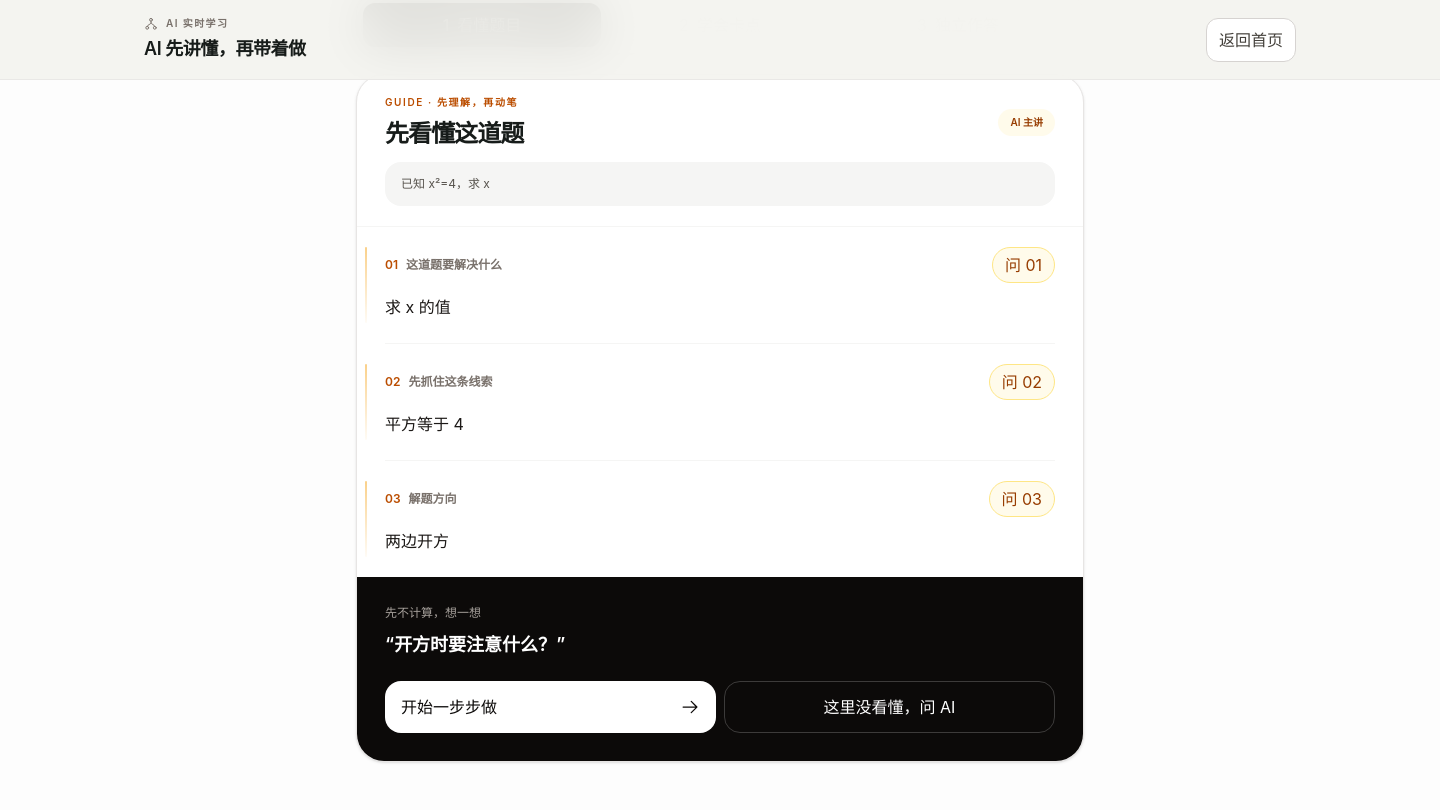
it: 学习工作区 › 可直接查看原题答案；关闭后不改变学习进度
(page scrolled)
Click the button "开始一步步做". click: coordinates (449, 707)
box: [385,681,716,733]
(page scrolled)
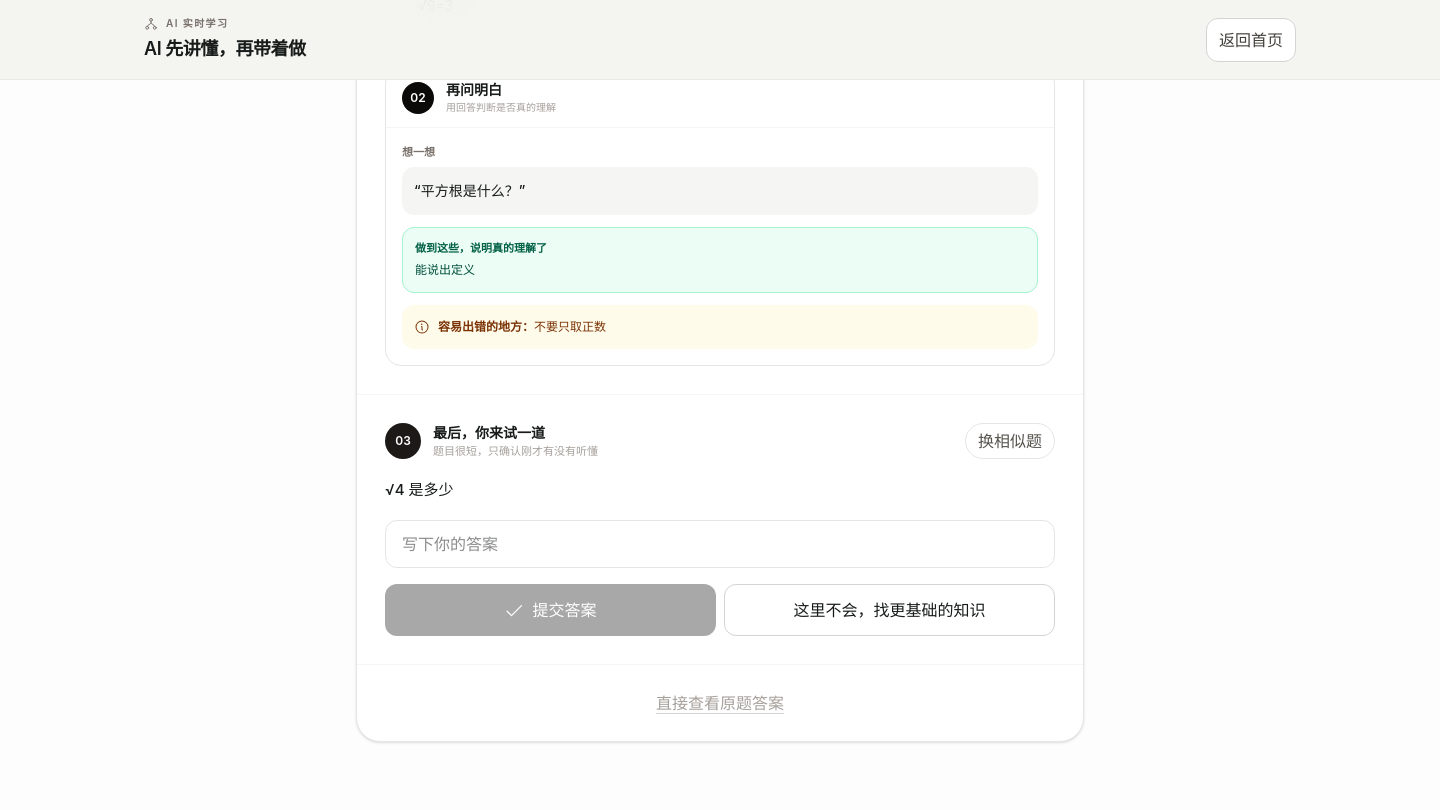
Click the button "直接查看原题答案". click: coordinates (720, 702)
box: [656,680,784,724]
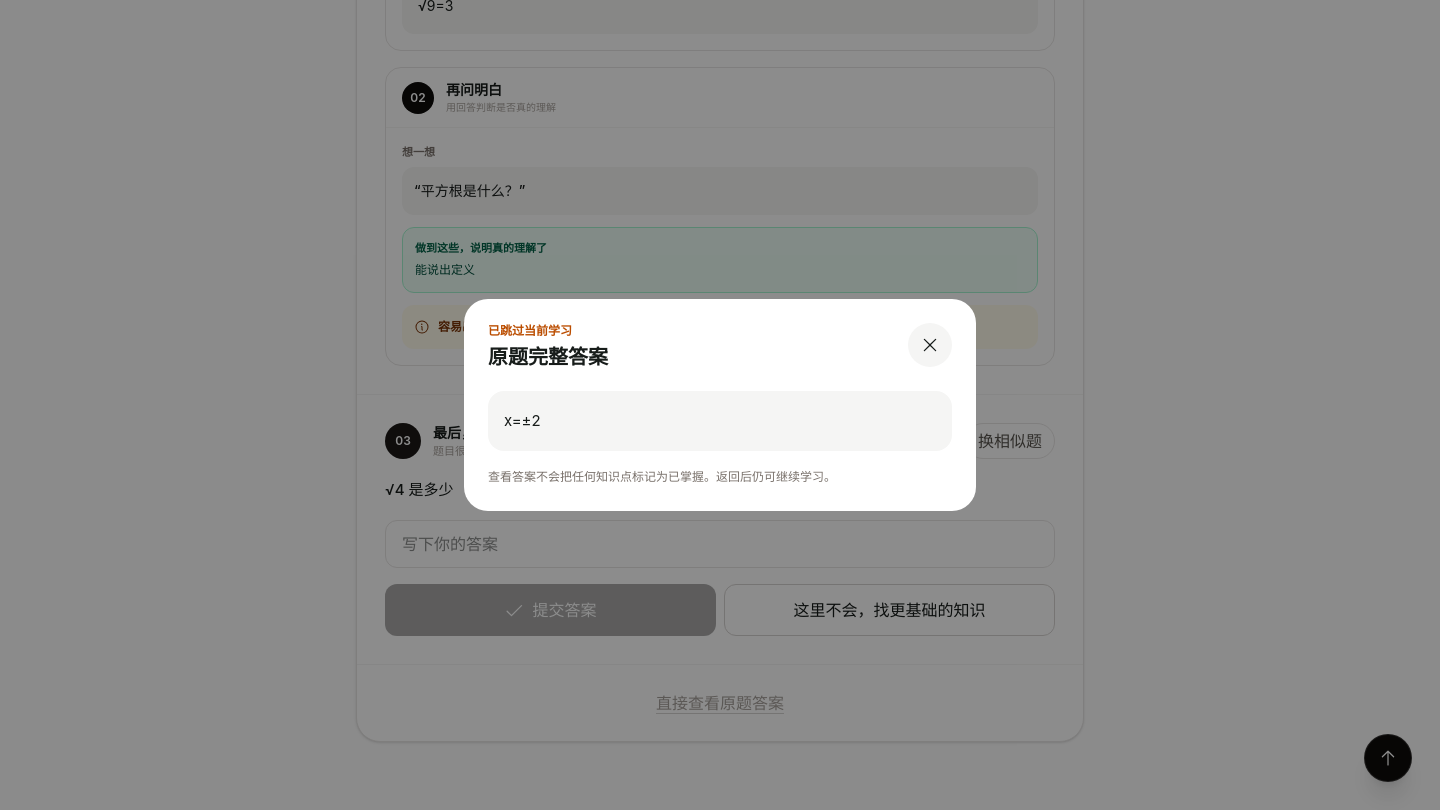
Check: the heading "原题完整答案" is shown, box [488,343,608,371]
Check: the text "x=±2" is shown, box [488,391,952,451]
Click the button named "关闭答案". click: coordinates (930, 345)
box: [908,323,952,367]
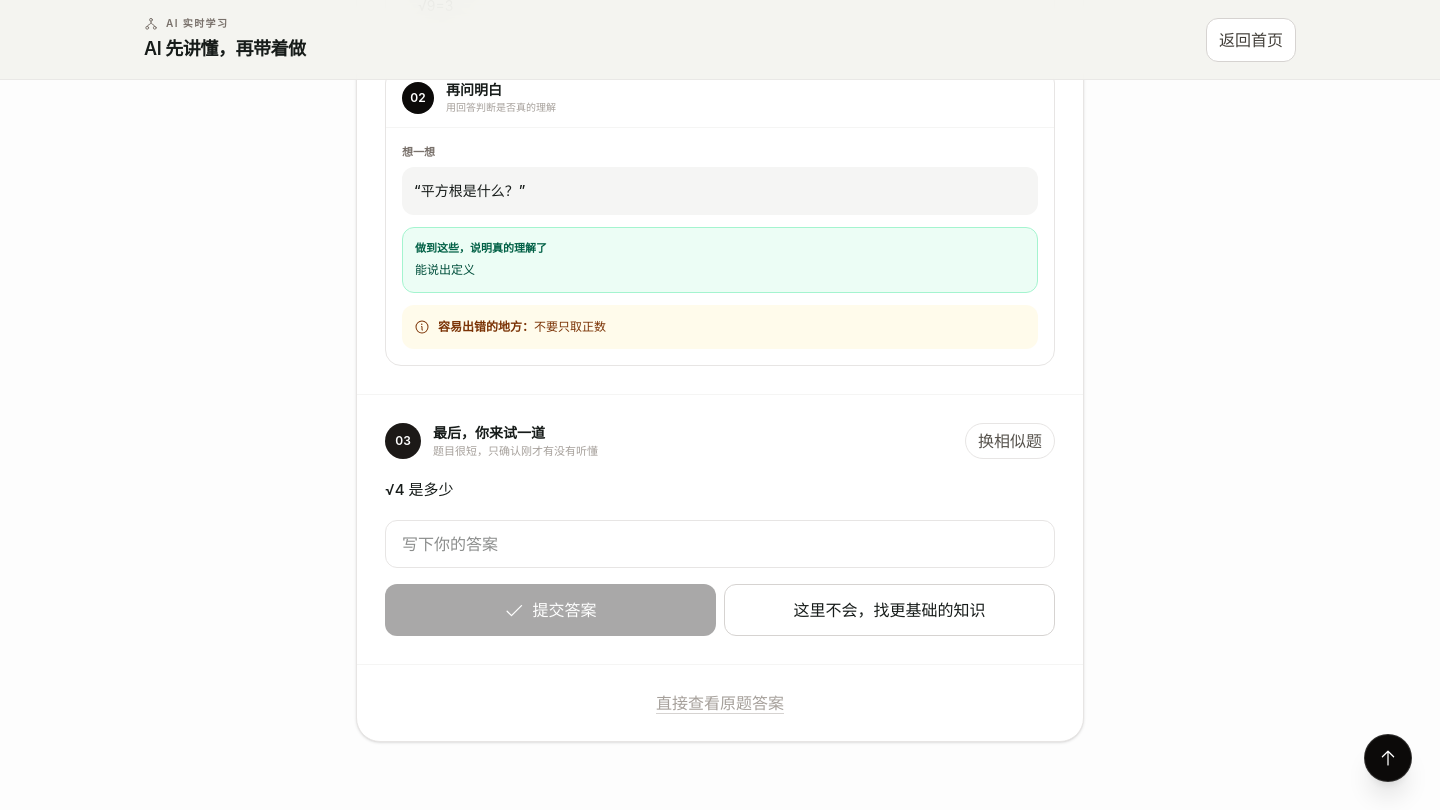
Check: the heading "原题完整答案" is gone
